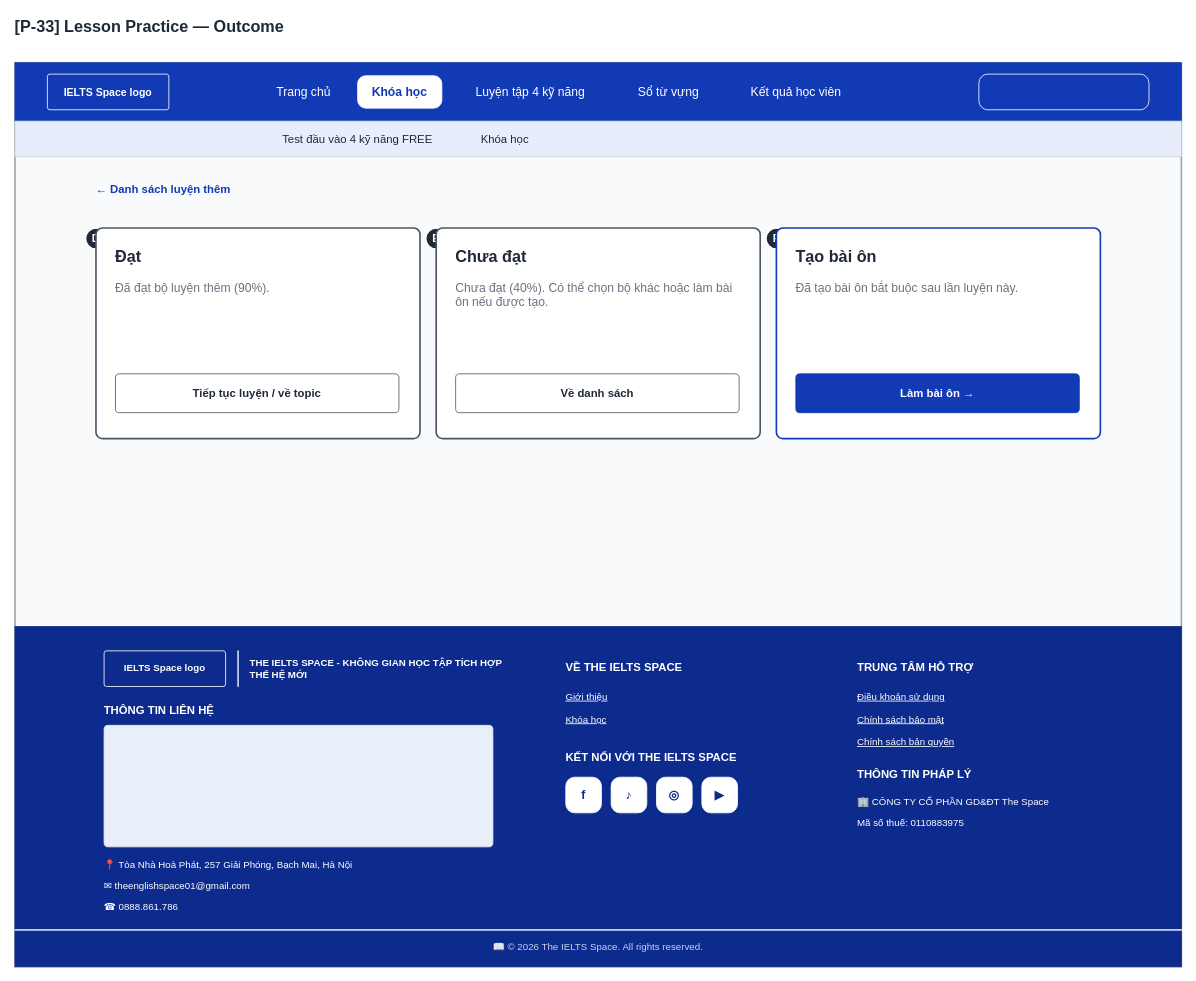
This 1196x981 diagram has some shape labels left out. Here are the shapes that lost their labels. From the top down, the box of each, then its label:
(978, 73, 1149, 110): ◯ Học viên · 30 Points ▾
(103, 725, 493, 847): 📍 The IELTS Space Mở trong Maps ↗
